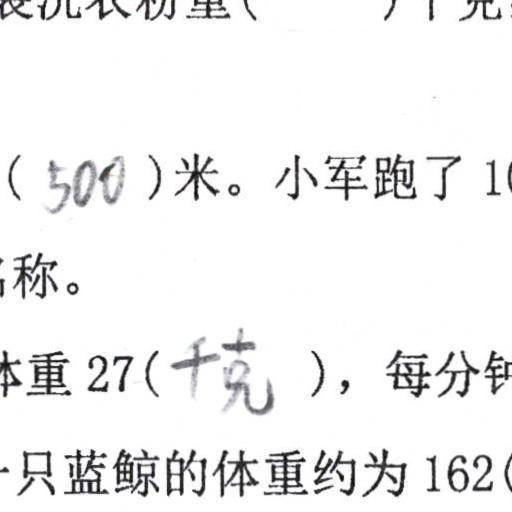ans: (165, 322, 275, 417), (39, 148, 126, 214)
